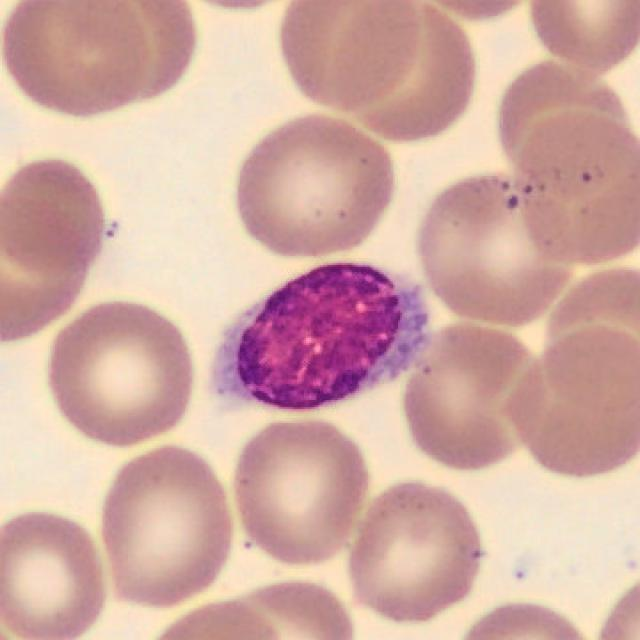Linfocito: (215, 265, 425, 409)
